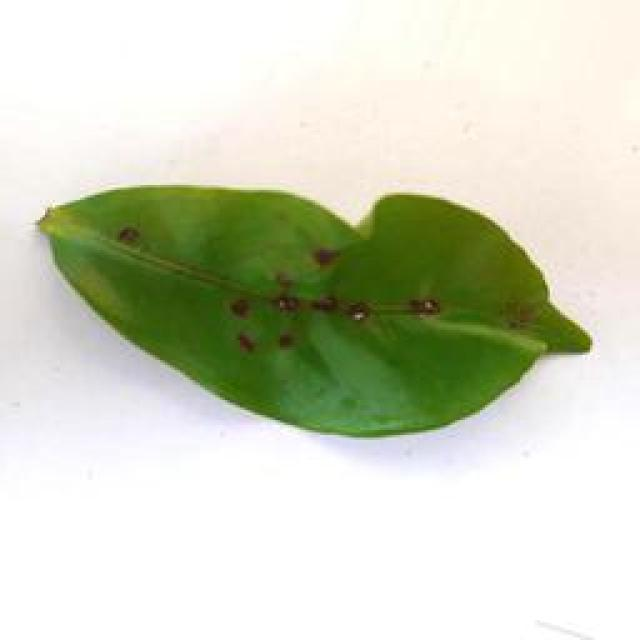Helopeltis: (17, 175, 599, 447)
